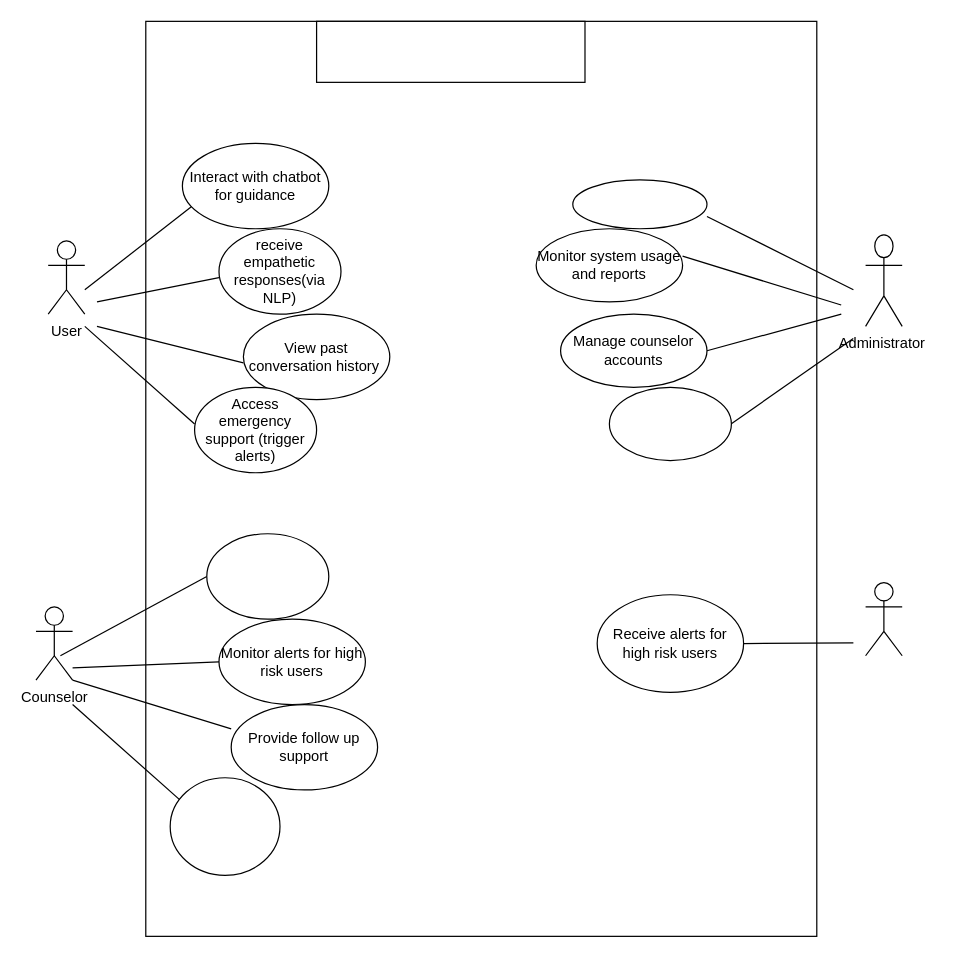
This 972x958 diagram has some shape labels left out. The centre of each missing label's shape, as x and y in pixels:
"Access dashboard with insights and reports" goes at [224,826].
"Configure security and access levels" goes at [669,423].
"Emergency Services" goes at [883,618].
"Manage Users" goes at [639,204].
"Mind Mate Ecosystem" goes at [450,51].
"Review users conversation history" goes at [267,576].
